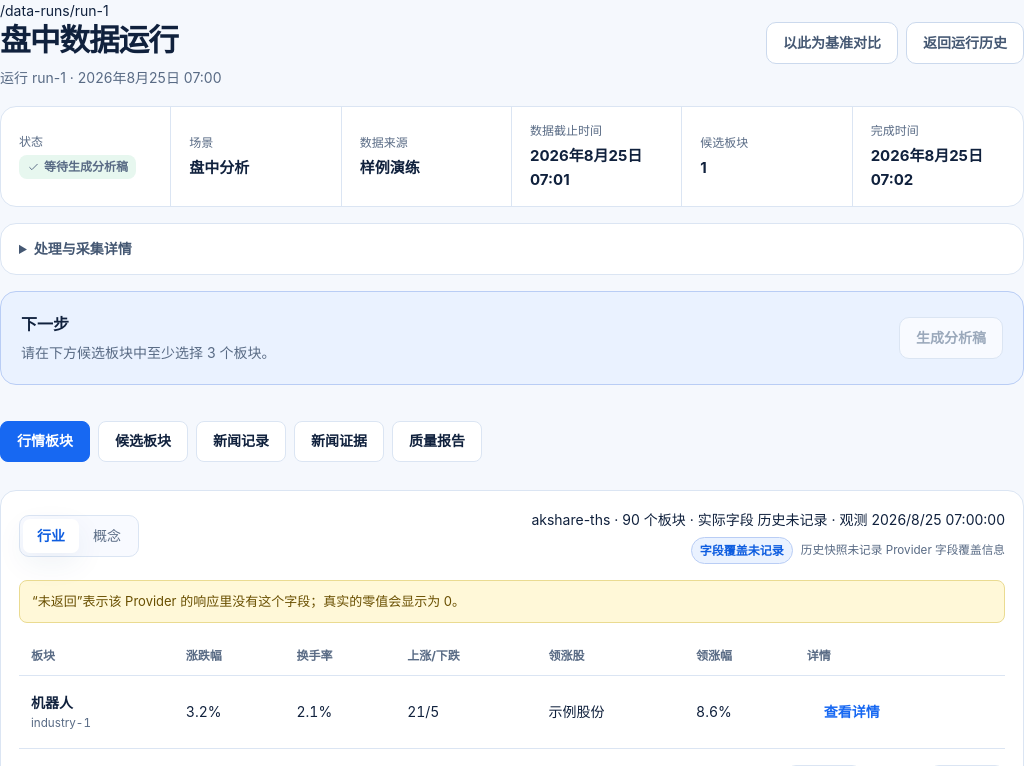
Test: shows market, candidate, linked news, and quality data
Expected: the text "示例股份" is shown, [536, 676, 684, 749]
Click the tab "候选板块": {"x": 143, "y": 441} [98, 421, 188, 462]
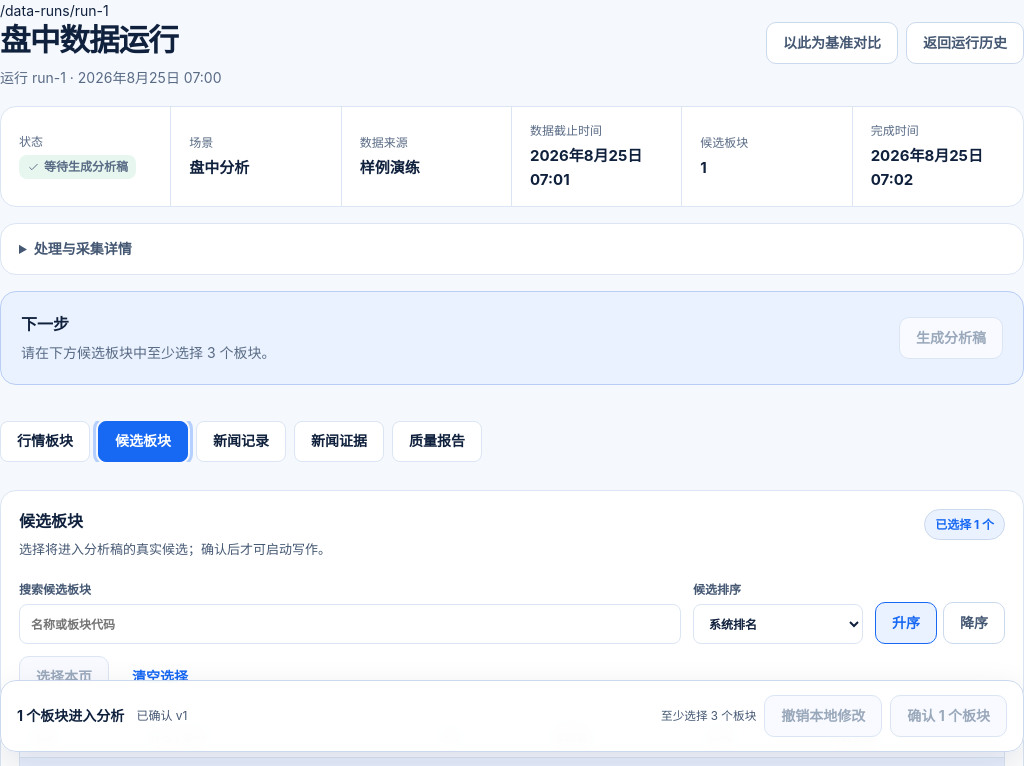
Click the tab "新闻证据": {"x": 339, "y": 441} [294, 421, 384, 462]
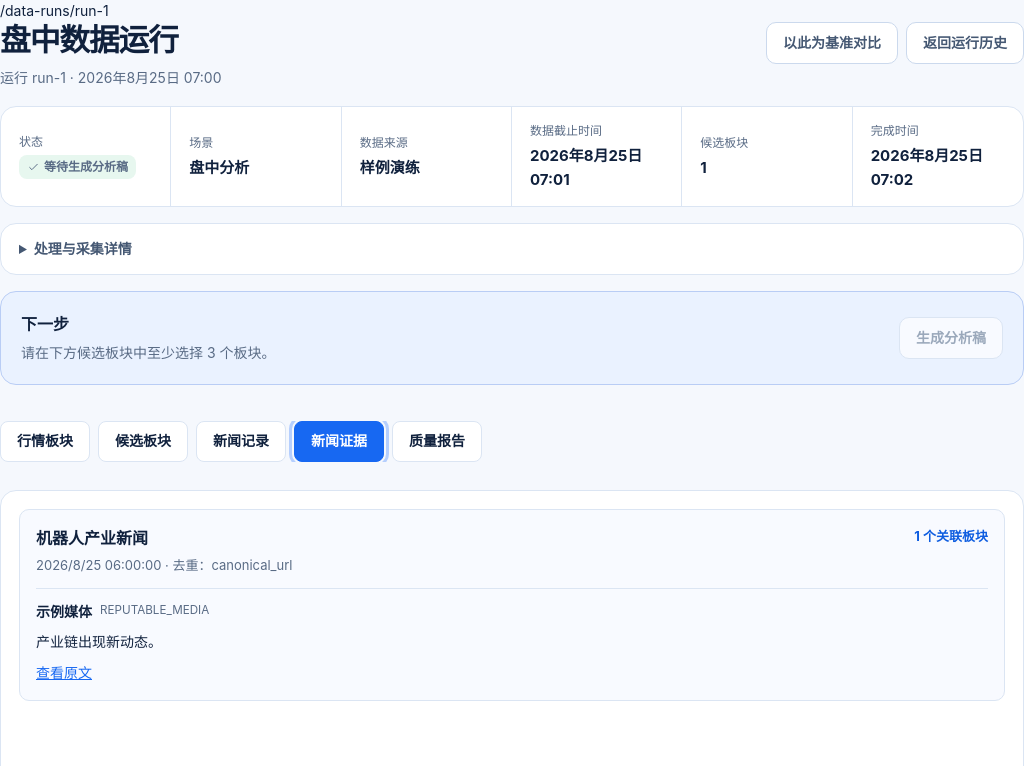
Result: the text "产业链出现新动态。" is shown at [36, 633, 162, 650]
Click the tab "质量报告": {"x": 437, "y": 441} [392, 421, 482, 462]
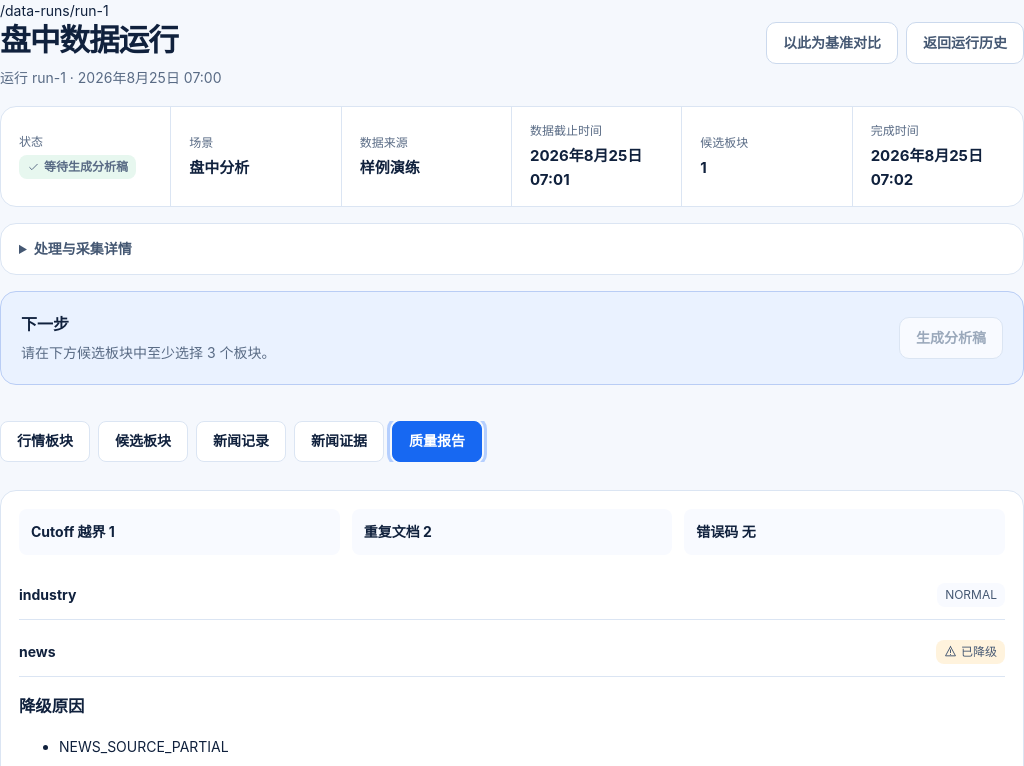
Result: the list item "NEWS_SOURCE_PARTIAL" is shown at [59, 738, 229, 755]
Result: the text "Cutoff 越界 1" is shown at [19, 509, 340, 555]
